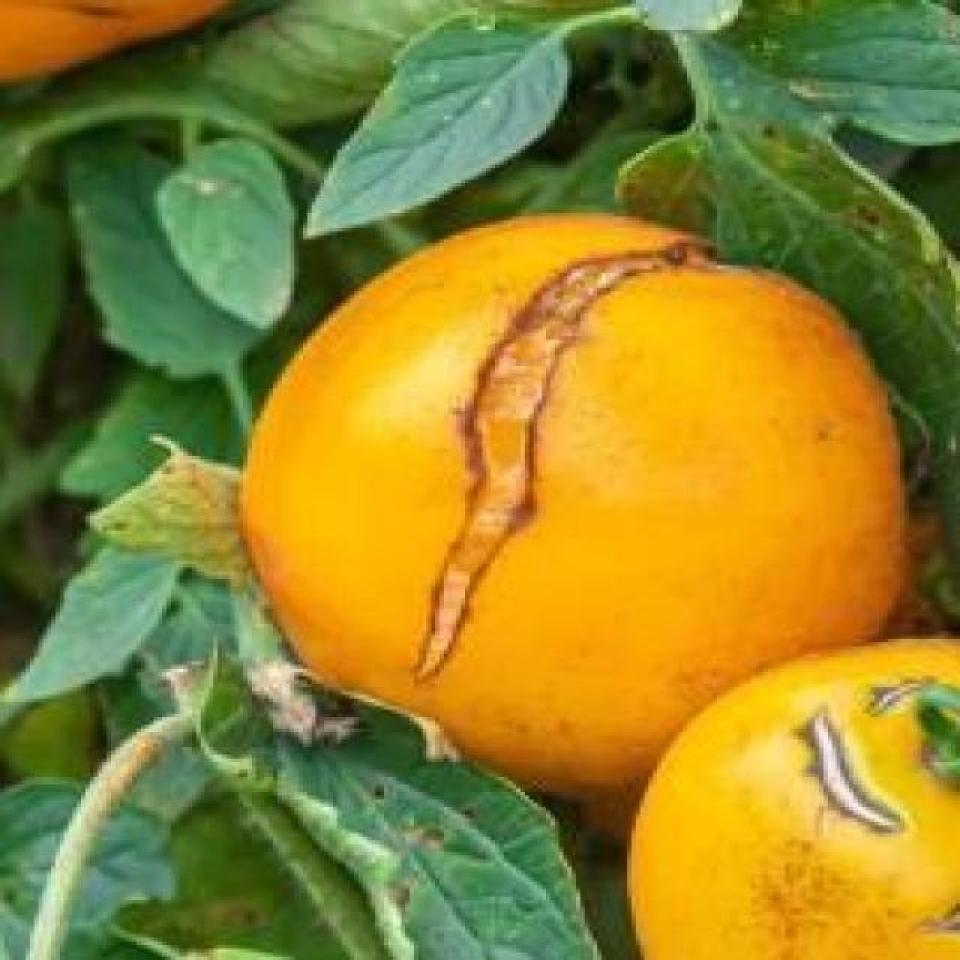Sunscald: (397, 218, 704, 712)
